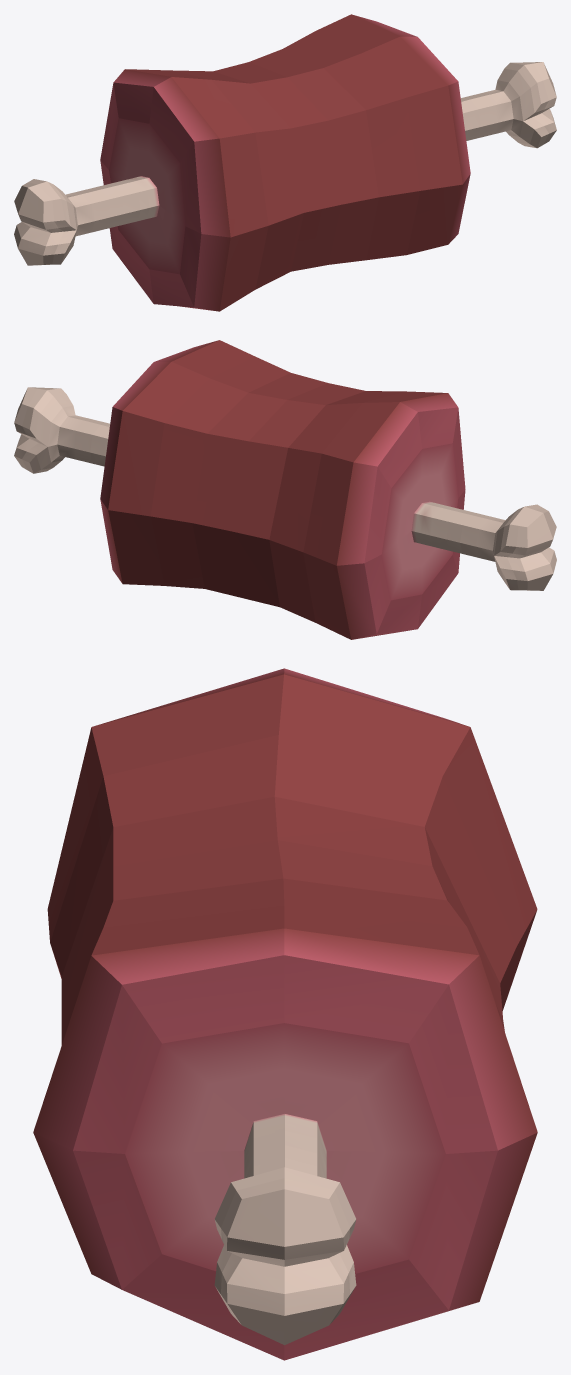
Rendered from Meat.fbx.
3 renders of one model, top to bottom at view 1: azimuth 30°, elevation 25°; view 2: azimuth 150°, elevation 25°; view 3: azimuth 270°, elevation 25°, orthographic. The views are drawn at different scales.
Visible parts, largest first — view 1: Meat; view 2: Meat; view 3: Meat.
Boxes of the visible parts, x1,y1,x2,y2 form: Meat: (14, 14, 556, 311); Meat: (14, 340, 556, 639); Meat: (33, 668, 537, 1360).
Bounding box in the file's own units: 130 × 53.03 × 53.04.
